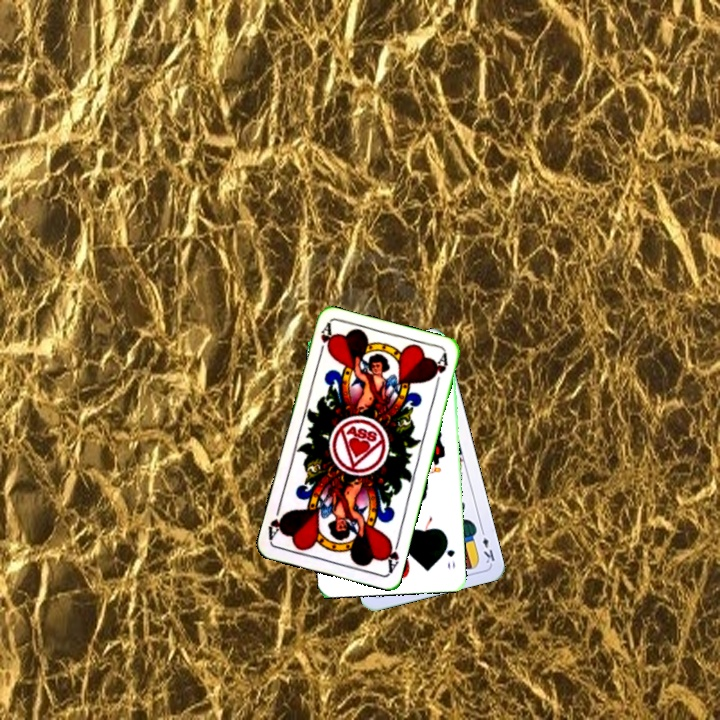EK: (477, 525, 497, 566)
GO: (440, 535, 458, 572)
HA: (381, 534, 403, 574), (314, 320, 335, 361)
